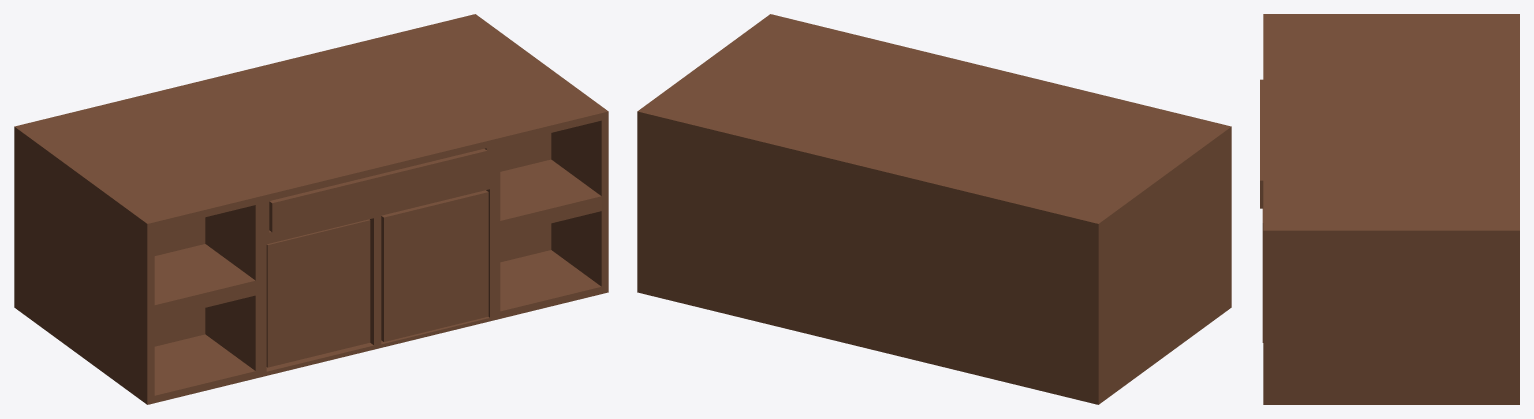
The model's file is Island.fbx.
3 views of the same model, side by side, from view 1: azimuth 30°, elevation 25°; view 2: azimuth 150°, elevation 25°; view 3: azimuth 270°, elevation 25° (orthographic). The views are drawn at different scales.
Visible parts, largest first — view 1: Island; view 2: Island; view 3: Island.
Boxes of the visible parts, left/top/right/bottom form: Island: left=14, top=14, right=608, bottom=404; Island: left=637, top=14, right=1231, bottom=404; Island: left=1260, top=14, right=1519, bottom=404.
Bounding box in the file's own units: 200 × 75 × 101.
